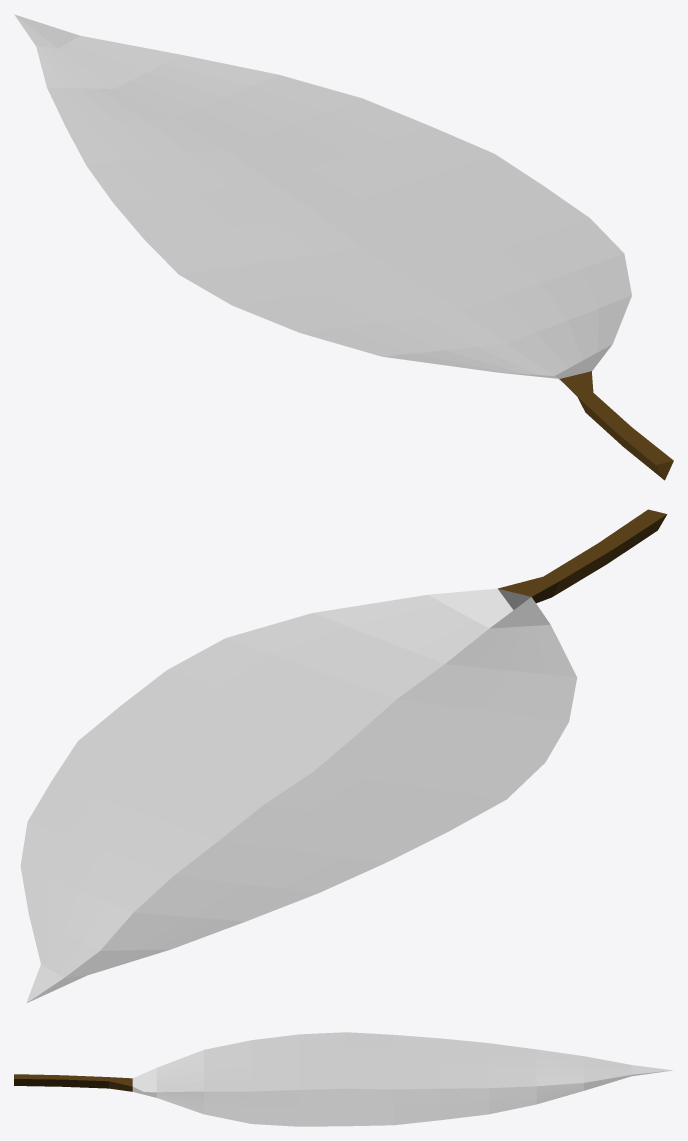
File: leaf1.fbx
3 views of the same model, one above another, from view 1: azimuth 30°, elevation 25°; view 2: azimuth 150°, elevation 25°; view 3: azimuth 270°, elevation 25° (orthographic). The views are drawn at different scales.
Visible parts, largest first — view 1: Plane; view 2: Plane; view 3: Plane.
Boxes of the visible parts, <box> form: Plane: <box>14,14,673,480</box>; Plane: <box>20,509,667,1003</box>; Plane: <box>14,1032,673,1126</box>.
Size of the model in its own units: 145 by 6.75 by 429.
